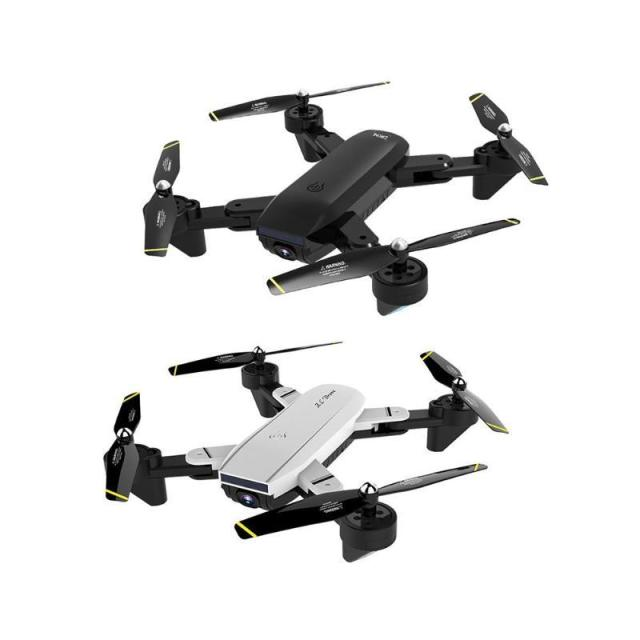drone: (114, 66, 554, 331), (87, 344, 512, 569)
